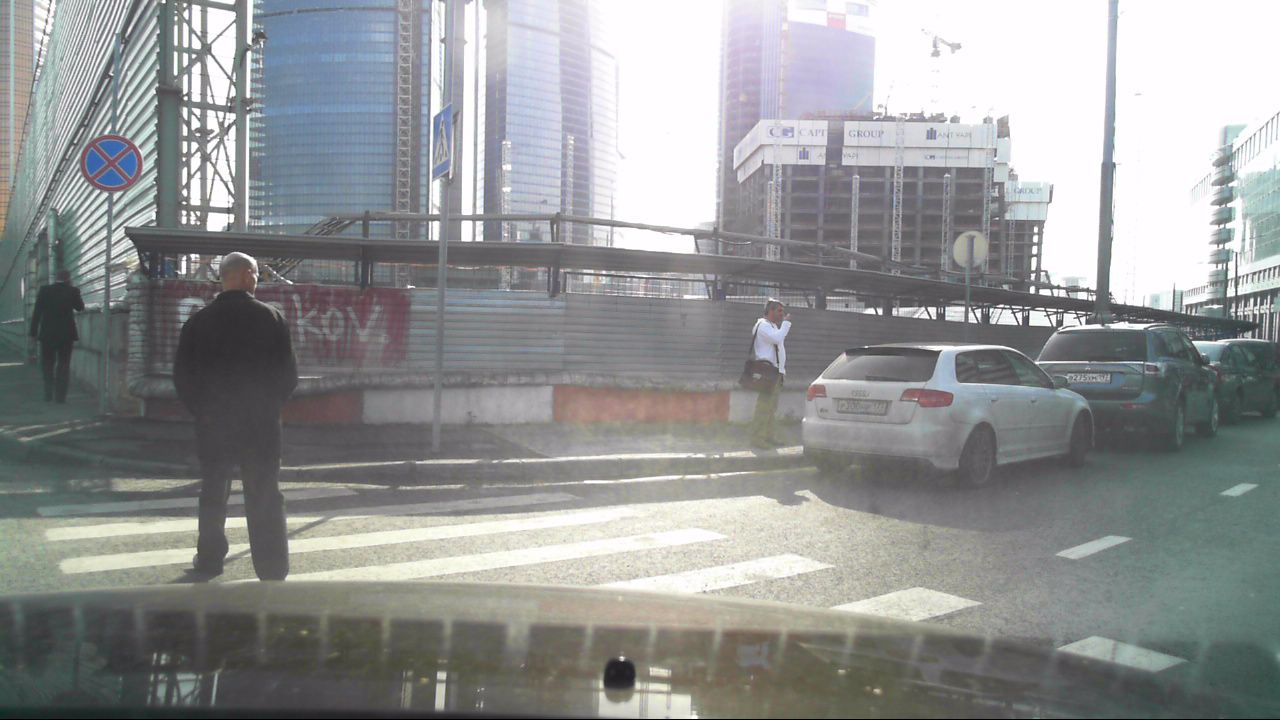No Parking: (80, 131, 145, 192)
